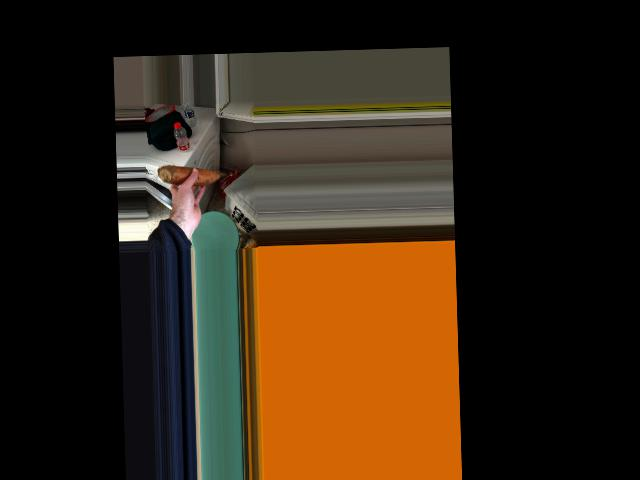sweet_potato: (166, 169, 219, 186)
